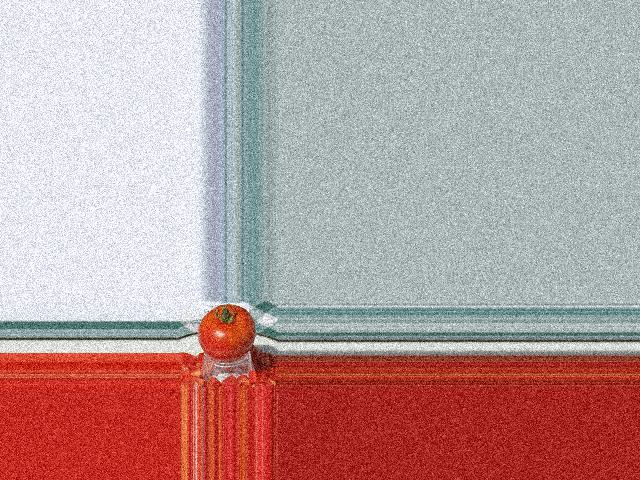tomato: (196, 304, 255, 360)
